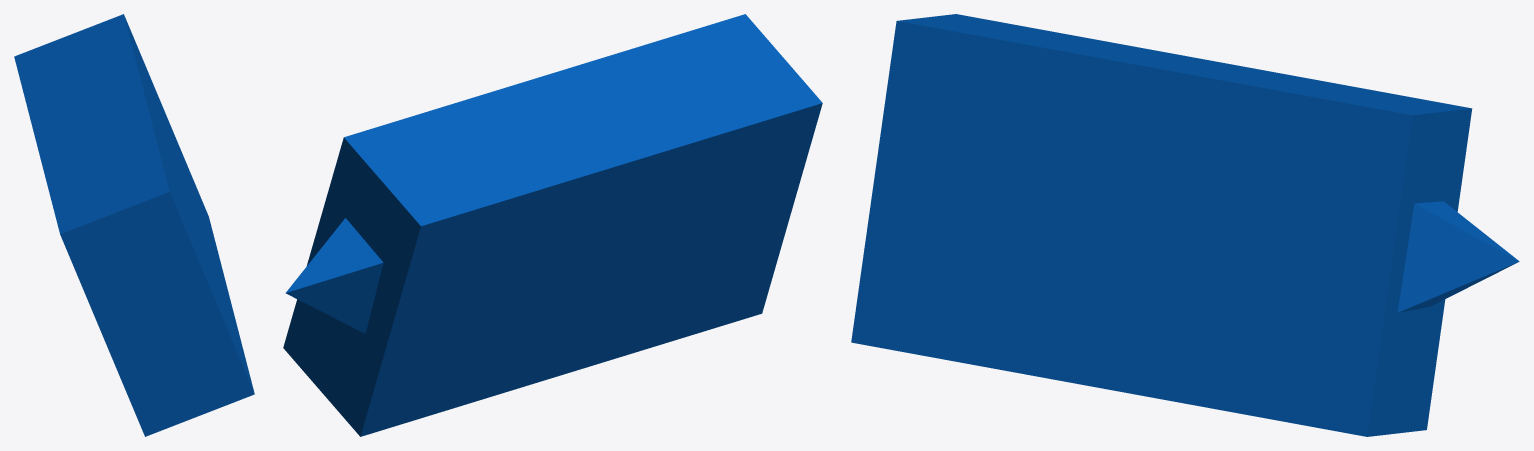
File: plasma ball hologram puzzle lock hologram plasma ball sender_start point.fbx
3 views of the same model, side by side, from view 1: azimuth 30°, elevation 25°; view 2: azimuth 150°, elevation 25°; view 3: azimuth 270°, elevation 25° (orthographic). The views are drawn at different scales.
Parts seen in each view (by area): view 1: 3be257d8-68dc-4bad-b3ed-1ecc14aca0e3; view 2: 3be257d8-68dc-4bad-b3ed-1ecc14aca0e3; view 3: 3be257d8-68dc-4bad-b3ed-1ecc14aca0e3.
Boxes of the visible parts, <box> form: 3be257d8-68dc-4bad-b3ed-1ecc14aca0e3: <box>14,14,254,436</box>; 3be257d8-68dc-4bad-b3ed-1ecc14aca0e3: <box>283,14,822,436</box>; 3be257d8-68dc-4bad-b3ed-1ecc14aca0e3: <box>851,14,1519,436</box>.
Size of the model in its own units: 5830 by 4525 by 8338.
